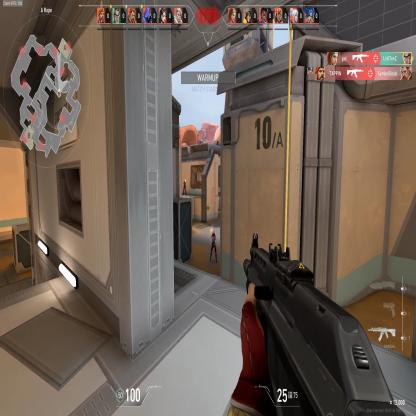enemy: (209, 227, 218, 264), (182, 179, 186, 195)
